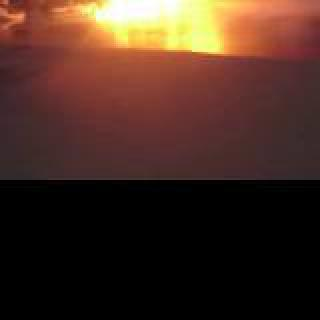fire: (80, 0, 232, 32)
